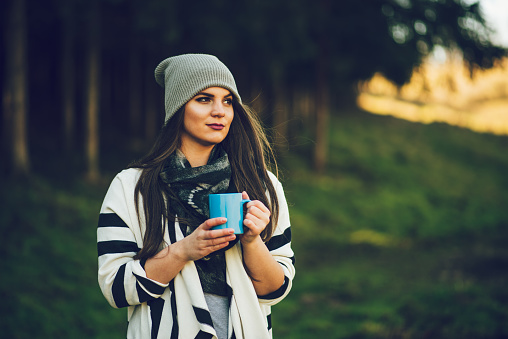em pe: (100, 48, 305, 339)
